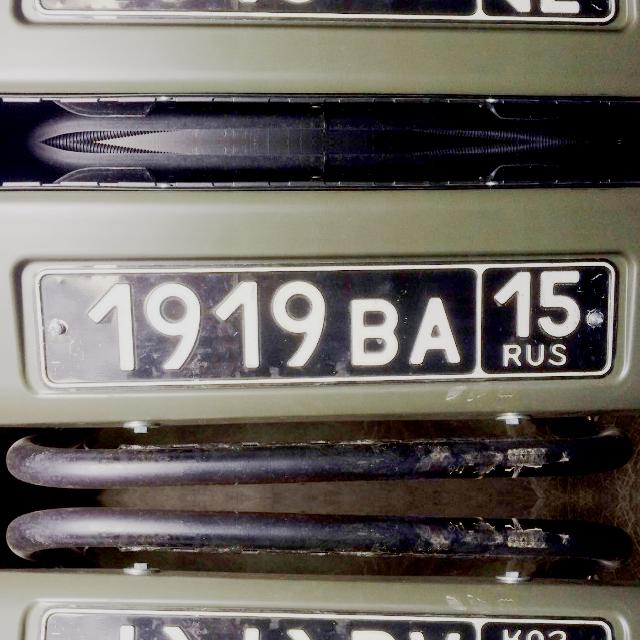military: (28, 256, 620, 386), (28, 608, 619, 640)
